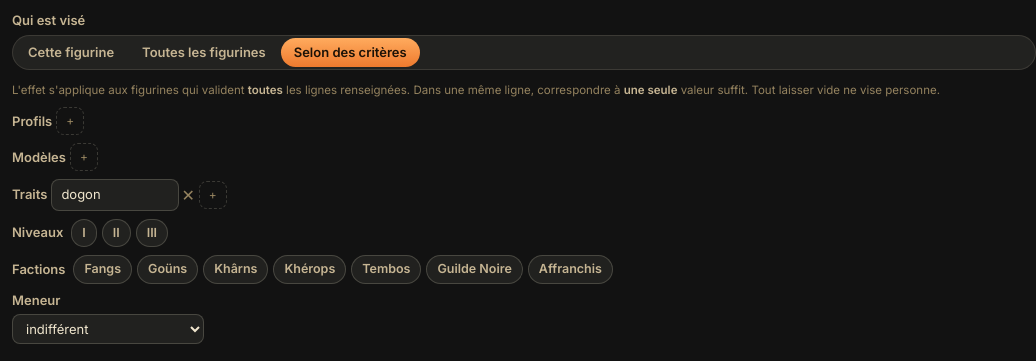
Test case: SelectorEditor - la position décide des champs › « Toutes les figurines » écrit `all` seul et masque les critères
Click the radio button labelled "Toutes les figurines" at (204, 53), box [129,38,279,67]
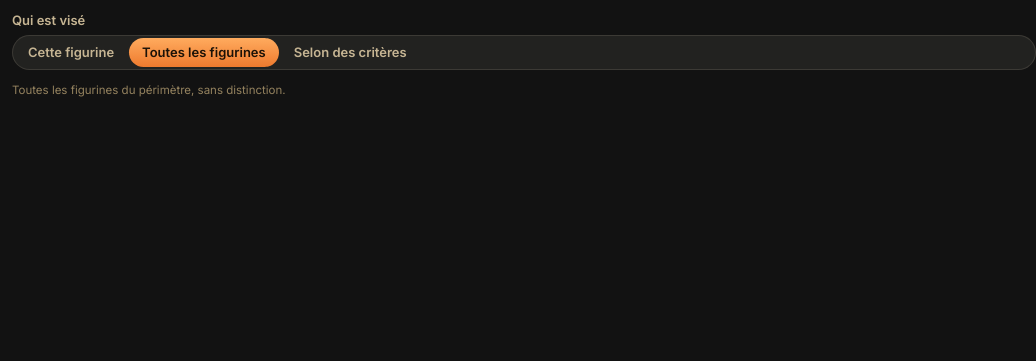
Expected: the text "Traits" is gone
